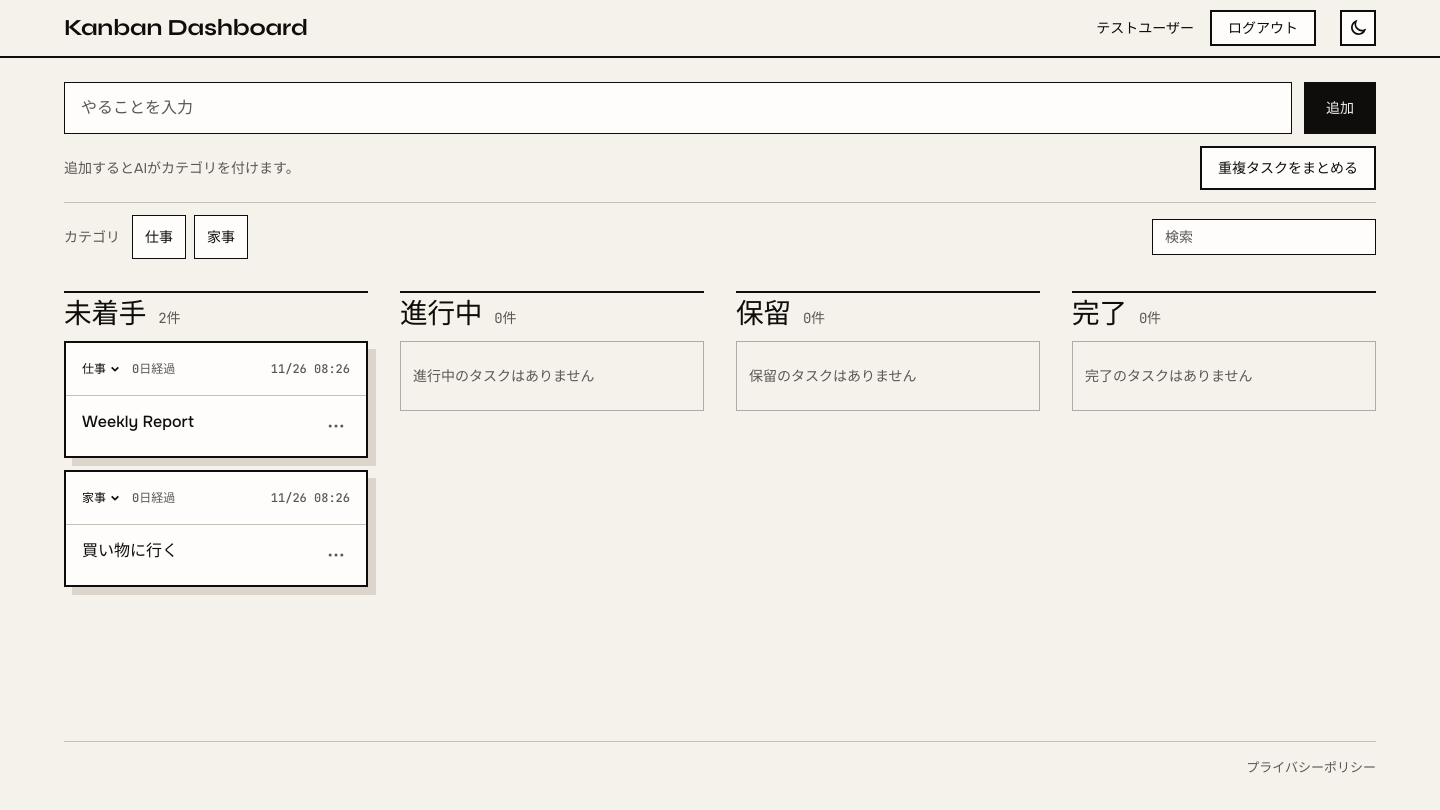
Test case: KanbanBoard category filter › filters cards by a title search, ignoring spaces and case
Check: the text "Weekly Report" is shown, box [82,411,194,432]
Type "weekly  report" into the search field named "タスクを検索".
click(1264, 237); type("weekly  report")  # box [1152,219,1376,255]
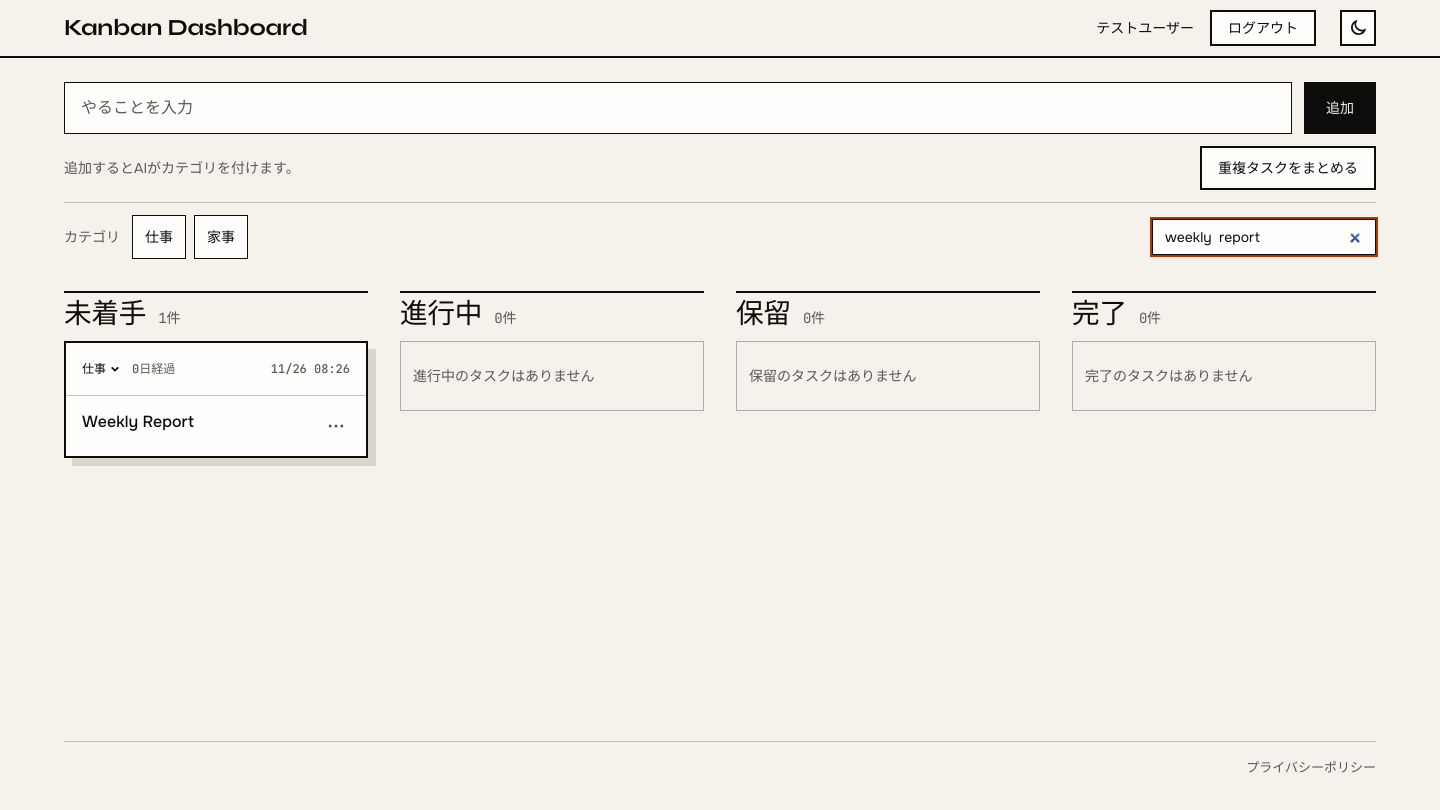
Check: the text "Weekly Report" is shown, box [82,411,194,432]
Check: the text "買い物に行く" is gone
